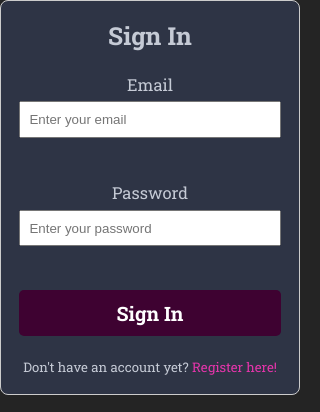
Scenario: SignIn Component › displays validation errors when need 1 digit in the password
Type "NoDigits" into the password field labelled "Password" at (150, 228), box [19,210,281,246]
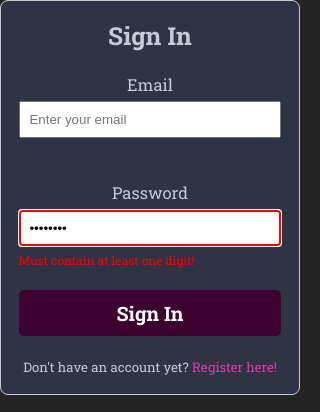
Now the text "Must contain at least one digit!" is shown, box [19,252,194,268]
